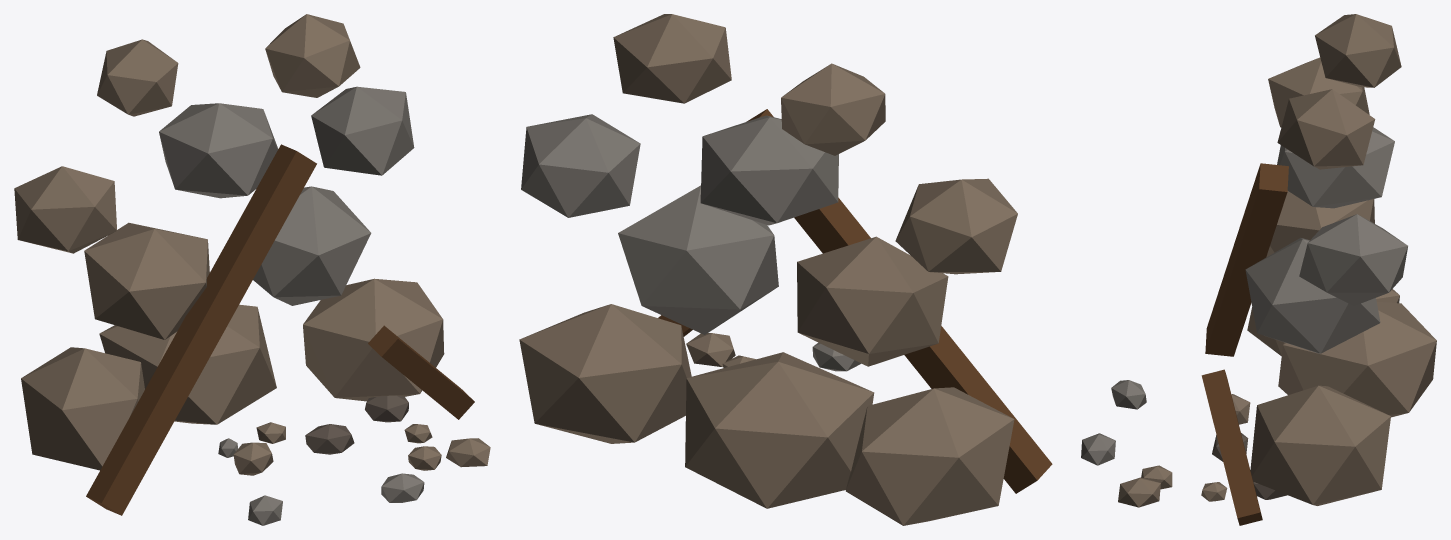
File: mine_cave_in.glb
3 views of the same model, side by side, from view 1: azimuth 30°, elevation 25°; view 2: azimuth 150°, elevation 25°; view 3: azimuth 270°, elevation 25° (orthographic). The views are drawn at different scales.
Visible parts, largest first — view 1: mine_cave_in; view 2: mine_cave_in; view 3: mine_cave_in.
Part boxes in pixels (x1,y1,x2,y2): mine_cave_in: (14, 14, 490, 525); mine_cave_in: (519, 14, 1052, 525); mine_cave_in: (1081, 14, 1436, 525).
Size of what is drawn, in the model's own units: 3.93 by 3.61 by 2.98.
